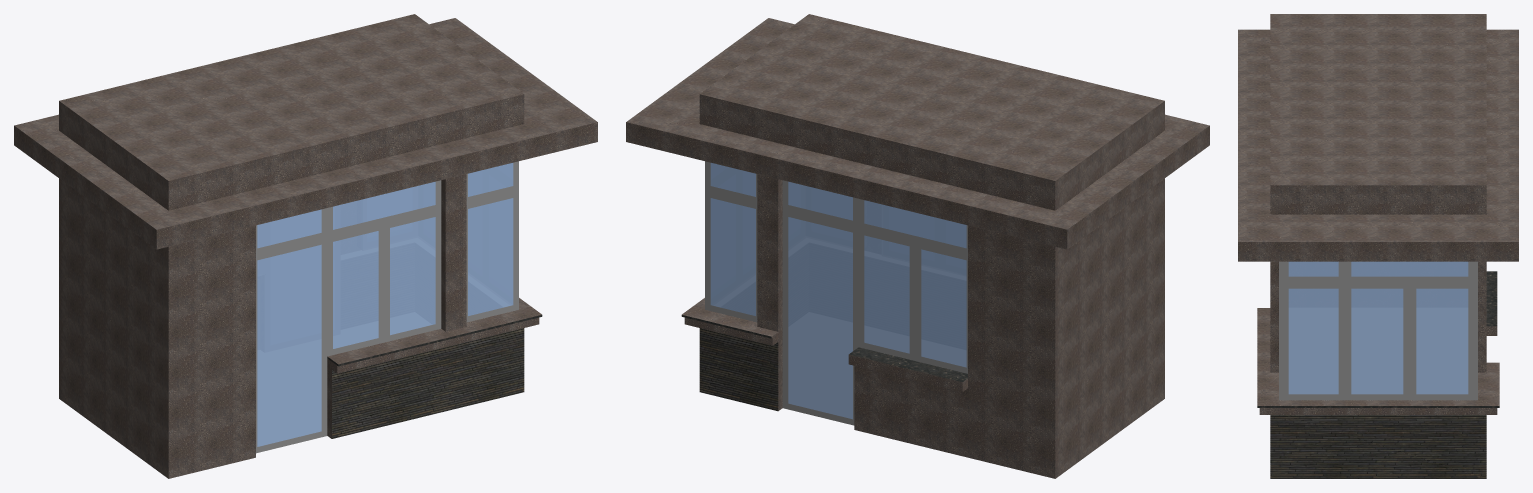
File: Nhà xe.fbx
3 renders of one model, left to right at view 1: azimuth 30°, elevation 25°; view 2: azimuth 150°, elevation 25°; view 3: azimuth 270°, elevation 25°, orthographic.
Visible parts, largest first — view 1: Nhaxe_LOD0; view 2: Nhaxe_LOD0; view 3: Nhaxe_LOD0.
Part boxes in pixels (box(x1,y1,x2,y2)): Nhaxe_LOD0: box(14, 14, 597, 478); Nhaxe_LOD0: box(626, 14, 1209, 478); Nhaxe_LOD0: box(1238, 14, 1518, 478).
Size of what is drawn, in the model's own units: 465 by 300 by 260.
